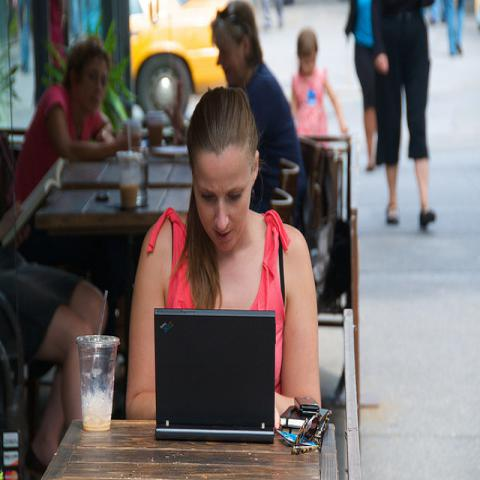car: (130, 0, 227, 121)
